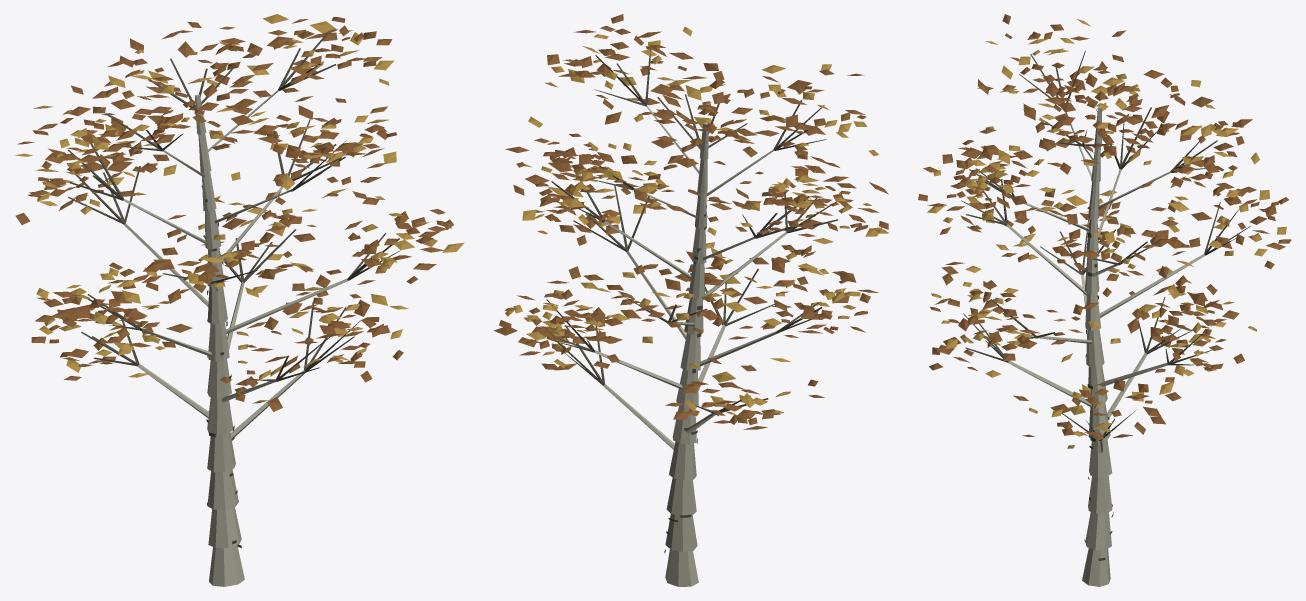
Rendered from birch_russet.glb.
The picture shows the model from 3 angles, left to right: view 1: azimuth 30°, elevation 25°; view 2: azimuth 150°, elevation 25°; view 3: azimuth 270°, elevation 25°; orthographic projection. The views are drawn at different scales.
Visible parts, largest first — view 1: birch_russet; view 2: birch_russet; view 3: birch_russet.
Boxes of the visible parts, x1,y1,x2,y2 form: birch_russet: [15, 14, 464, 586]; birch_russet: [493, 14, 888, 586]; birch_russet: [918, 14, 1291, 586].
Bounding box in the file's own units: 2.71 × 3.79 × 2.46.
